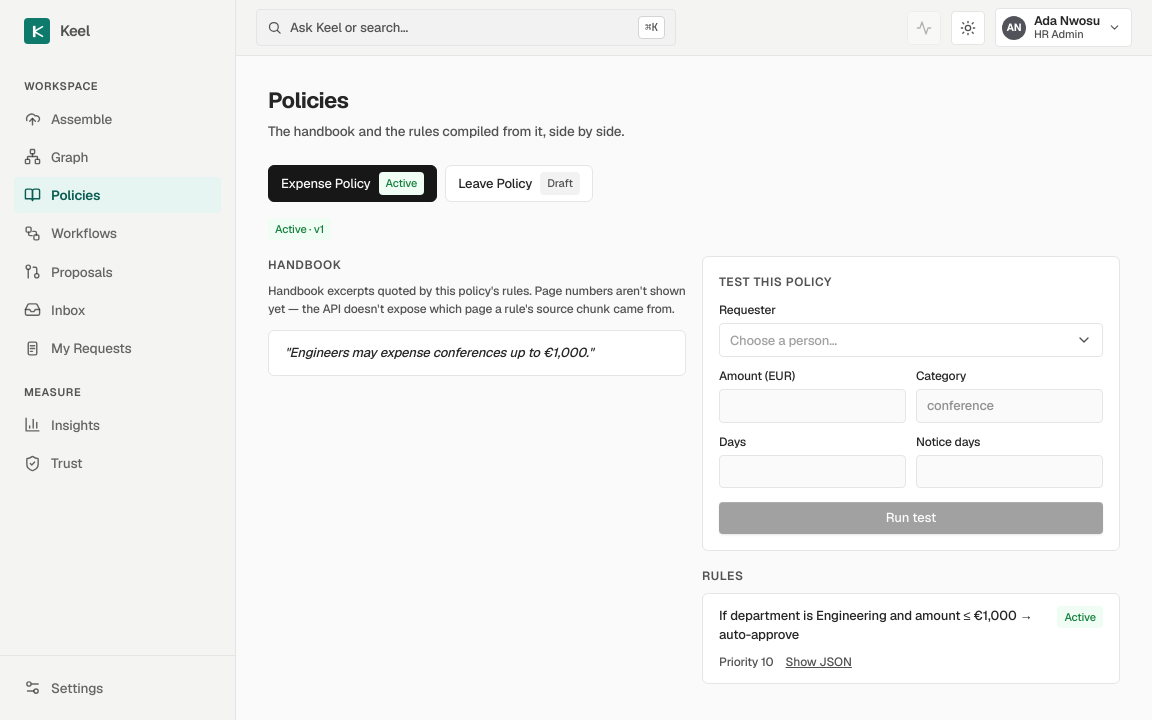
Test case: /policies › switches policies and shows an ambiguity banner for an open ambiguity
Expected: the text "\"Engineers may expense conferences up to €1,000.\"" is shown, [268,330,686,376]
What coordinates should you click on to do the following:
click the tab "Leave Policy Draft"
I would click on:
 (519, 184)
Its box is [445,165,593,202].
(page scrolled)
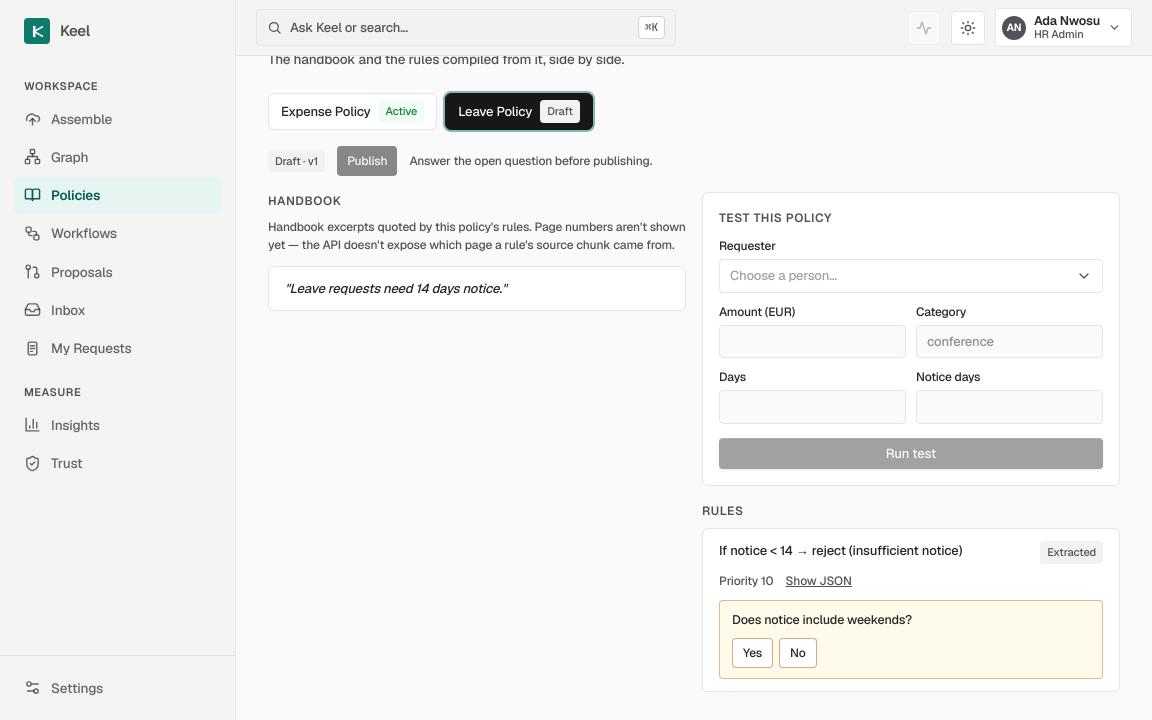
Expected: the text "Does notice include weekends?" is shown, [732,611,912,628]
Expected: the button "Yes" is shown, [732,638,773,668]
